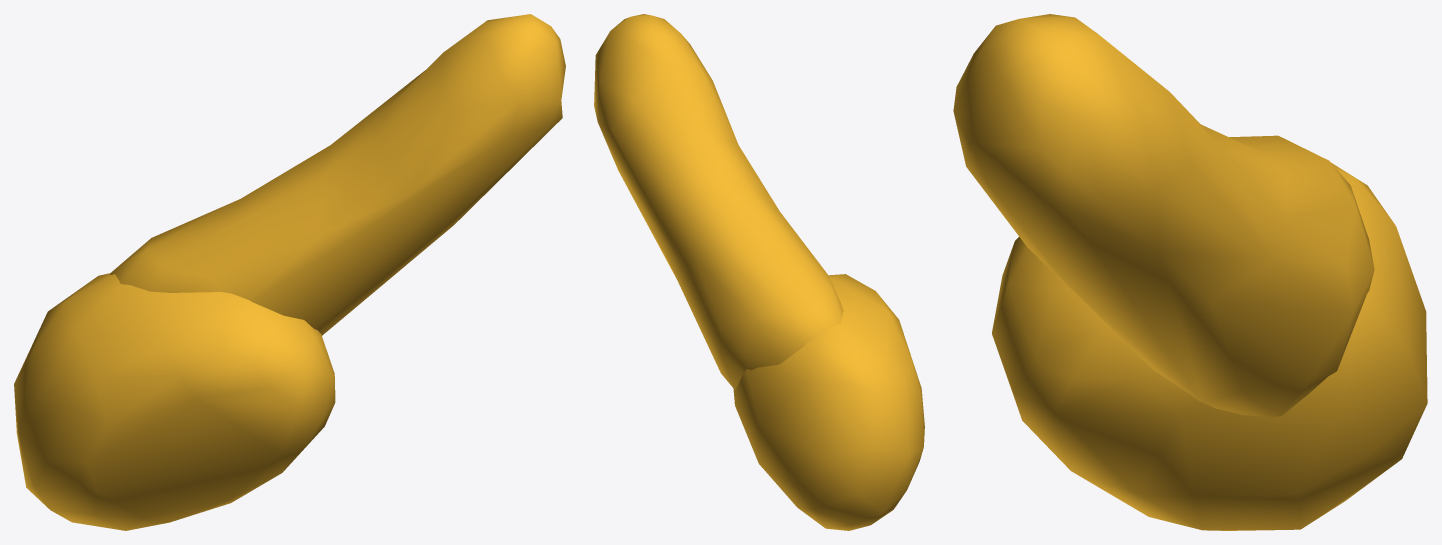
File: nervoso-inferior-colliculus-l.glb
3 renders of one model, left to right at view 1: azimuth 30°, elevation 25°; view 2: azimuth 150°, elevation 25°; view 3: azimuth 270°, elevation 25°, orthographic. The views are drawn at different scales.
Parts seen in each view (by area): view 1: Inferior colliculus.l; view 2: Inferior colliculus.l; view 3: Inferior colliculus.l.
Boxes of the visible parts, x1,y1,x2,y2 form: Inferior colliculus.l: [14, 14, 565, 530]; Inferior colliculus.l: [594, 14, 924, 530]; Inferior colliculus.l: [953, 14, 1427, 530].
Bounding box in the file's own units: 0.0141 × 0.0141 × 0.00825.
